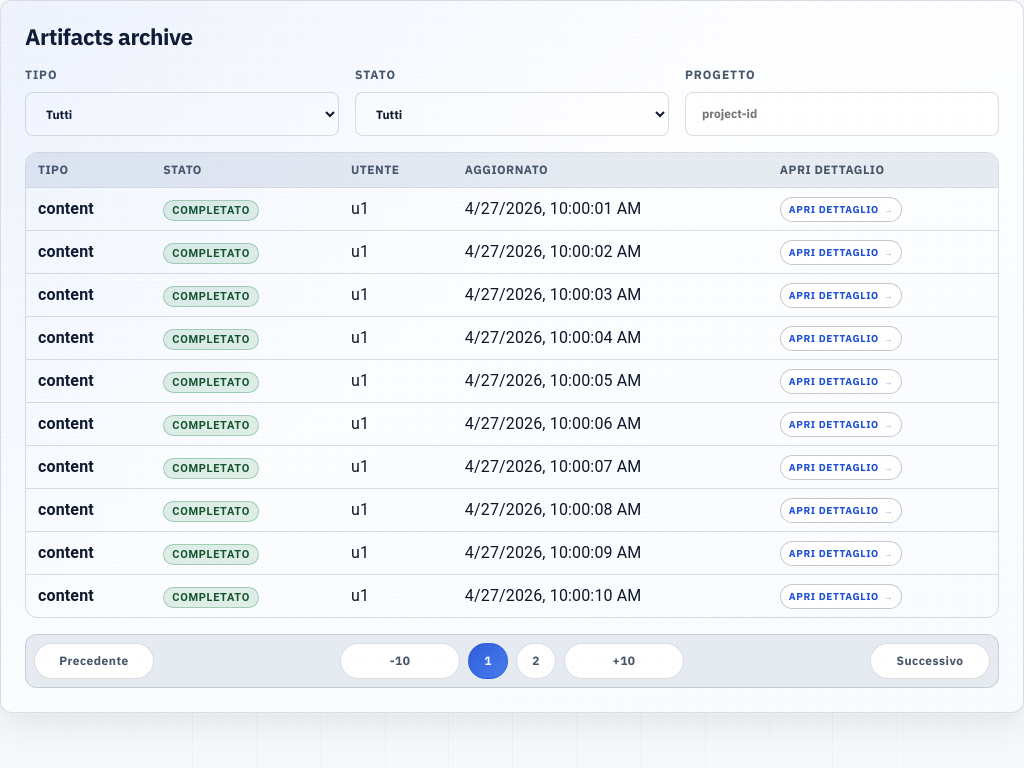
it: ArtifactsPage › paginates local fallback artifacts in batches of 10
The width and height of the screenshot is (1024, 768).
Click the button "Successivo". click: (930, 661)
box: [870,643,990,679]
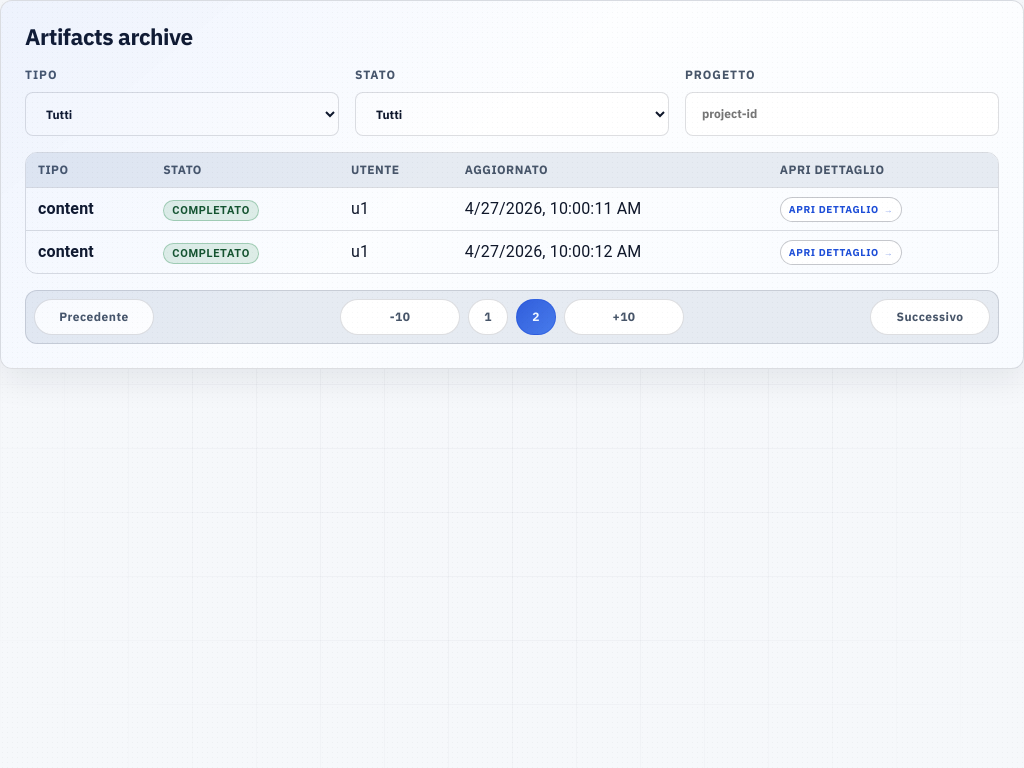
Expected: the number of links "Apri dettaglio" is 2, [780,197,902,222]; [780,240,902,265]
